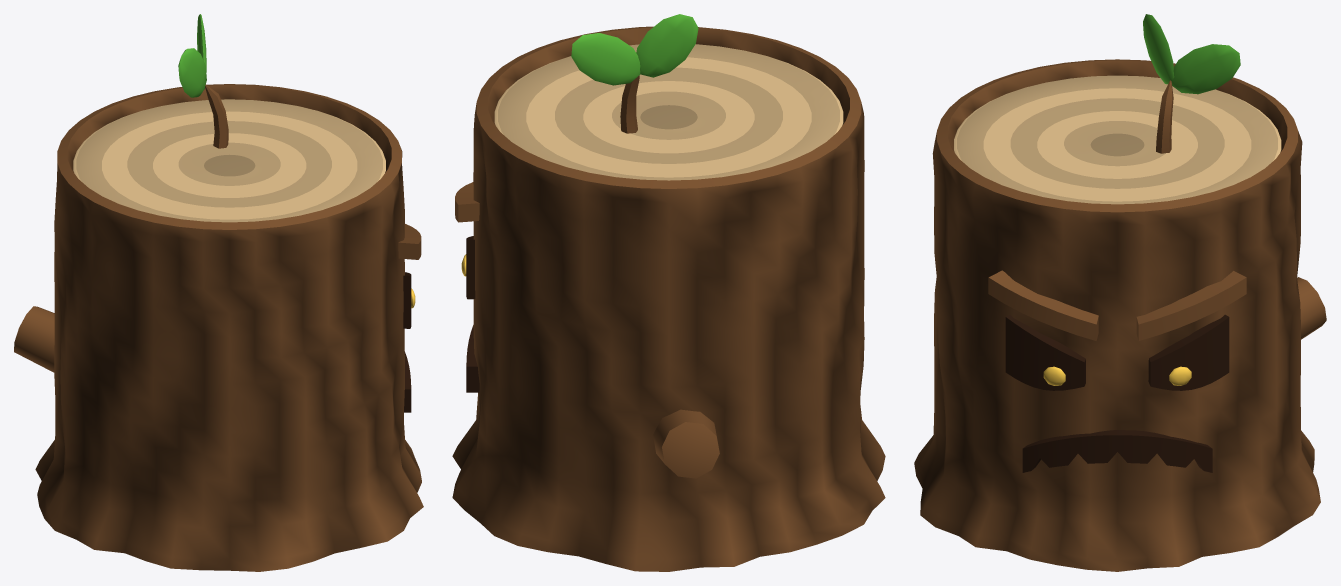
Rendered from acc_myth_log.glb.
The picture shows the model from 3 angles, left to right: view 1: azimuth 30°, elevation 25°; view 2: azimuth 150°, elevation 25°; view 3: azimuth 270°, elevation 25°; orthographic projection. The views are drawn at different scales.
Parts seen in each view (by area): view 1: LogHead; view 2: LogHead; view 3: LogHead.
Part boxes in pixels (<box>): LogHead: <box>14,14,423,571</box>; LogHead: <box>452,14,885,571</box>; LogHead: <box>914,14,1326,571</box>.
Bounding box in the file's own units: 0.5512 × 0.6563 × 0.5381.
